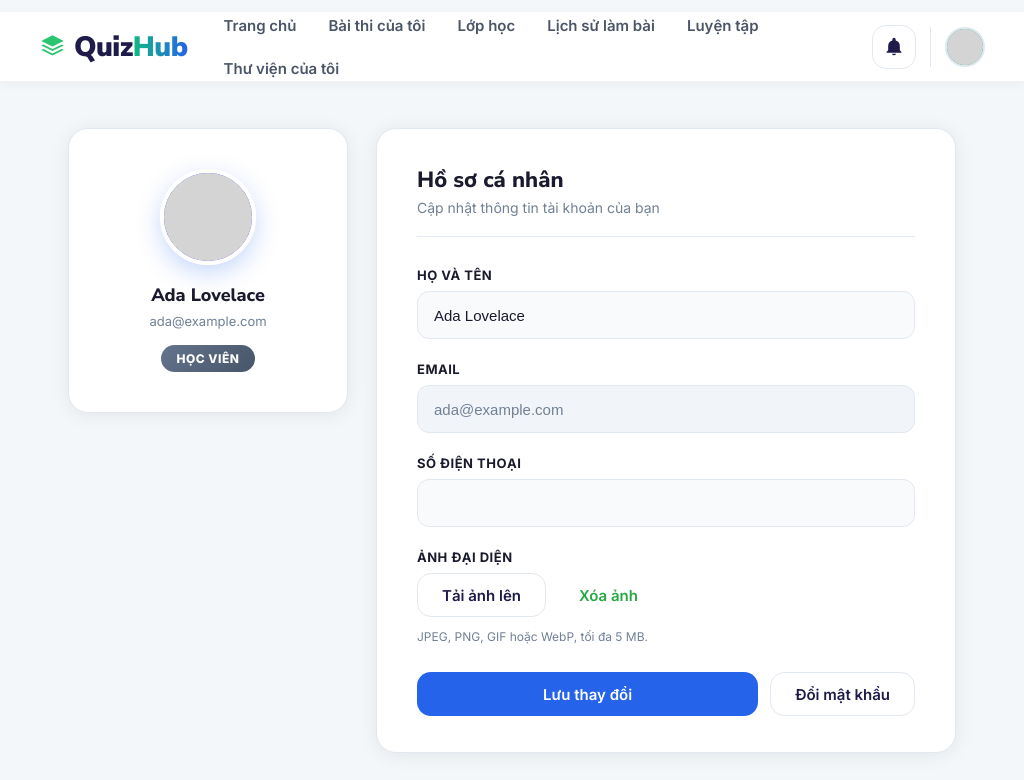
Test case: ProfilePage › does not save a blank name
Clear the field labelled "Họ và tên" at {"x": 666, "y": 315}, box [417,291,915,339]
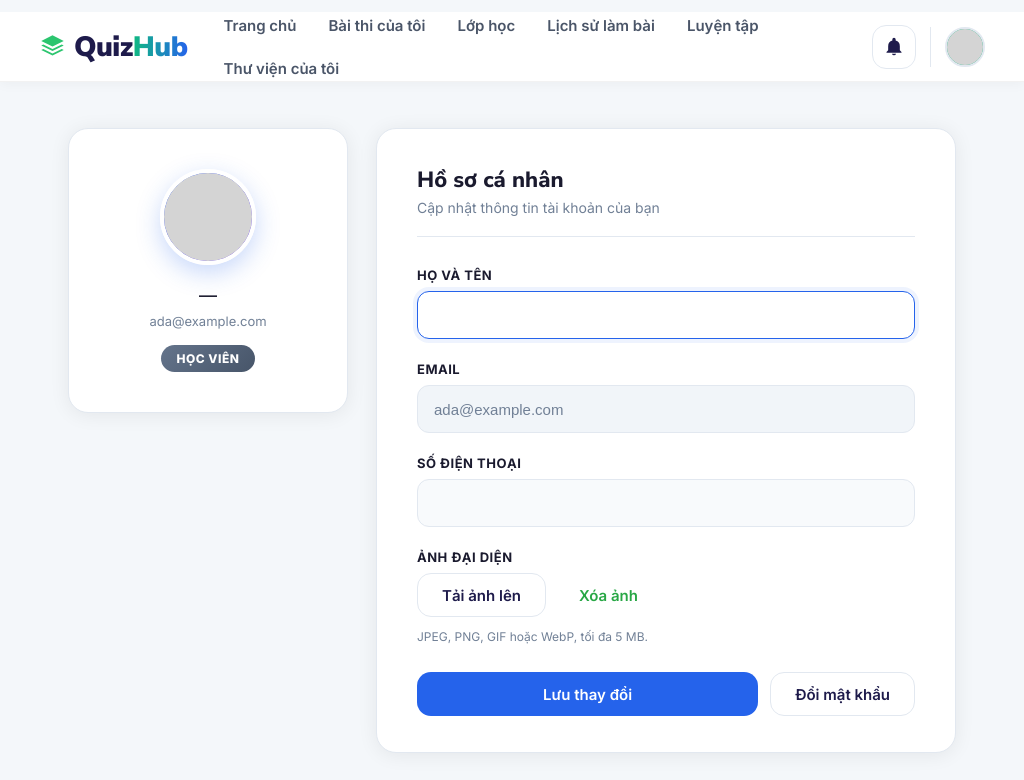
Click the button "Lưu thay đổi".
click(588, 694)  # box [417,672,758,716]
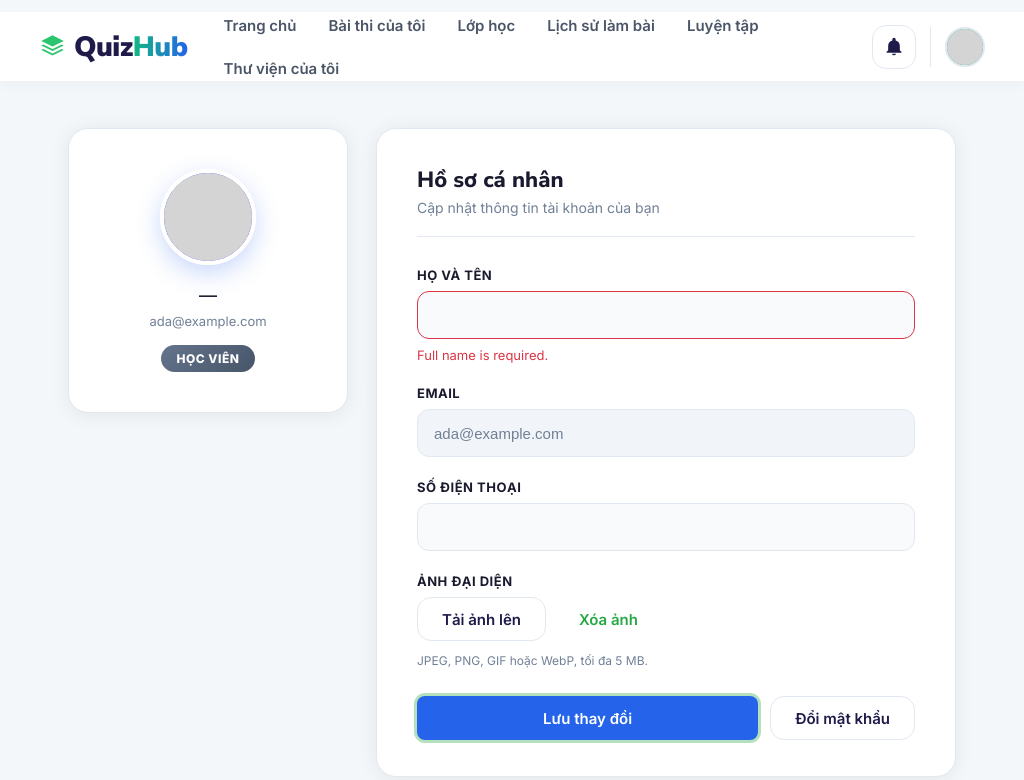
Check: the message shows "required", box [417,347,548,363]
